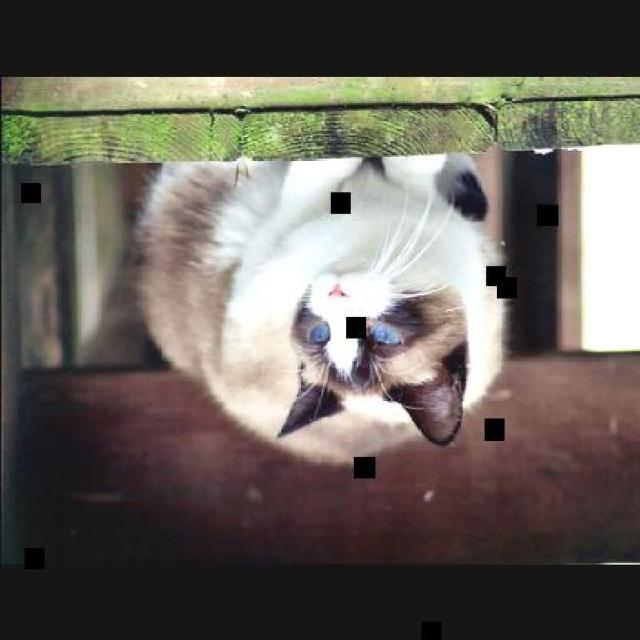unauthorized: (125, 149, 509, 462)
